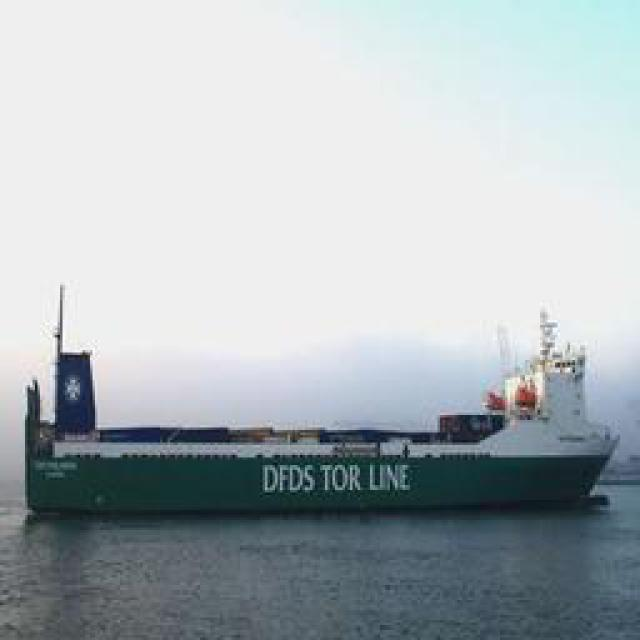Ship: (22, 352, 625, 520)
